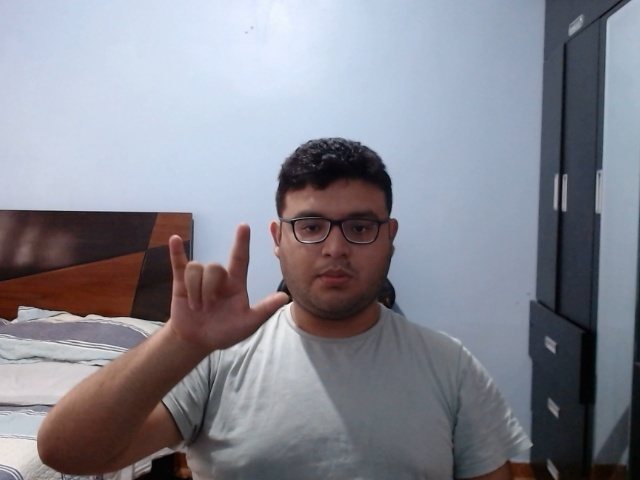I love you: (163, 220, 293, 359)
